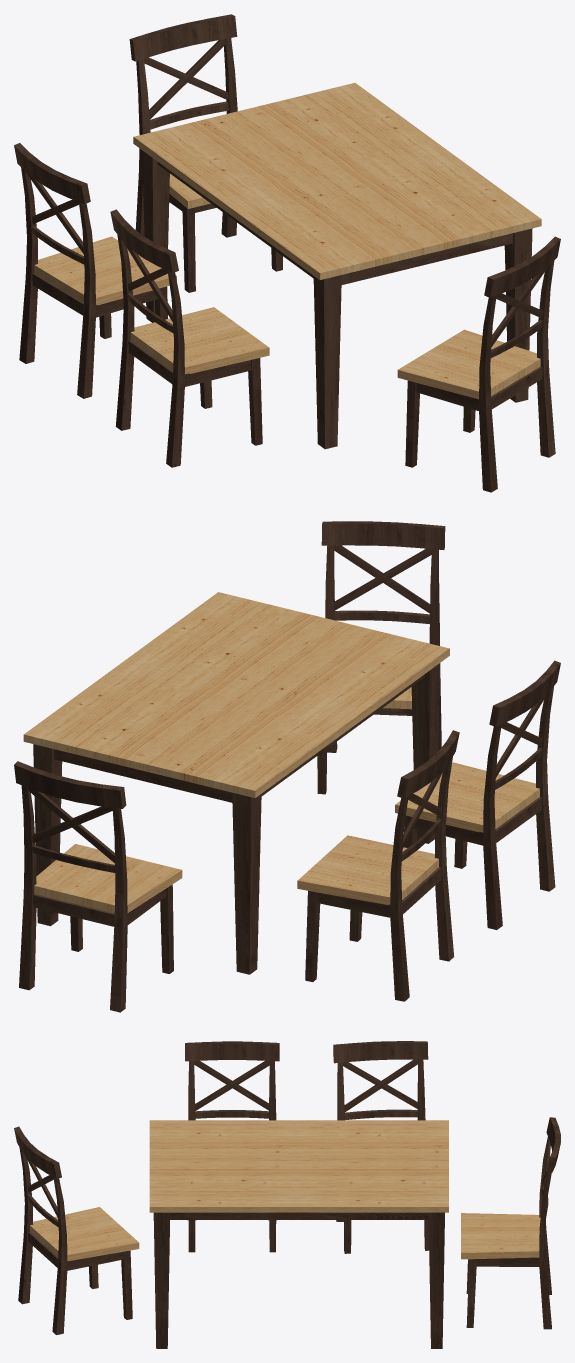
Rendered from Table-chairs.FBX.
3 views of the same model, one above another, from view 1: azimuth 30°, elevation 25°; view 2: azimuth 150°, elevation 25°; view 3: azimuth 270°, elevation 25° (orthographic). The views are drawn at different scales.
Visible parts, largest first — view 1: Table-top, Table-Dark, Chair-dark003, Chair-dark002, Chair-dark001, Chair-dark, Chair-light003, Chair-light002, Chair-light001, Chair-light; view 2: Table-top, Chair-dark, Table-Dark, Chair-dark001, Chair-dark002, Chair-dark003, Chair-light001, Chair-light, Chair-light002; view 3: Table-top, Table-Dark, Chair-dark003, Chair-dark002, Chair-dark001, Chair-light, Chair-light003, Chair-dark.
Boxes of the visible parts, bbox=[...] form: Table-top: bbox=[133, 83, 541, 279]; Table-Dark: bbox=[142, 150, 532, 449]; Chair-dark003: bbox=[405, 236, 560, 492]; Chair-dark002: bbox=[110, 209, 262, 467]; Chair-dark001: bbox=[14, 143, 167, 398]; Chair-dark: bbox=[129, 14, 282, 292]; Chair-light003: bbox=[397, 329, 540, 399]; Chair-light002: bbox=[130, 307, 269, 374]; Chair-light001: bbox=[34, 236, 176, 305]; Chair-light: bbox=[169, 174, 210, 208]; Table-top: bbox=[23, 592, 449, 797]; Chair-dark: bbox=[14, 761, 173, 1012]; Table-Dark: bbox=[33, 663, 440, 974]; Chair-dark001: bbox=[305, 730, 459, 1001]; Chair-dark002: bbox=[404, 660, 560, 929]; Chair-dark003: bbox=[317, 521, 445, 794]; Chair-light001: bbox=[297, 835, 438, 905]; Chair-light: bbox=[34, 844, 182, 913]; Chair-light002: bbox=[395, 762, 539, 832]; Table-top: bbox=[149, 1120, 448, 1212]; Table-Dark: bbox=[153, 1212, 444, 1348]; Chair-dark003: bbox=[14, 1126, 132, 1334]; Chair-dark002: bbox=[185, 1041, 279, 1252]; Chair-dark001: bbox=[333, 1041, 429, 1253]; Chair-light: bbox=[461, 1213, 540, 1259]; Chair-light003: bbox=[30, 1207, 139, 1261]; Chair-dark: bbox=[466, 1117, 560, 1329].
Bounding box in the file's own units: 39.03 × 22.55 × 64.58.
Materials: 2 (2 with a texture image).
